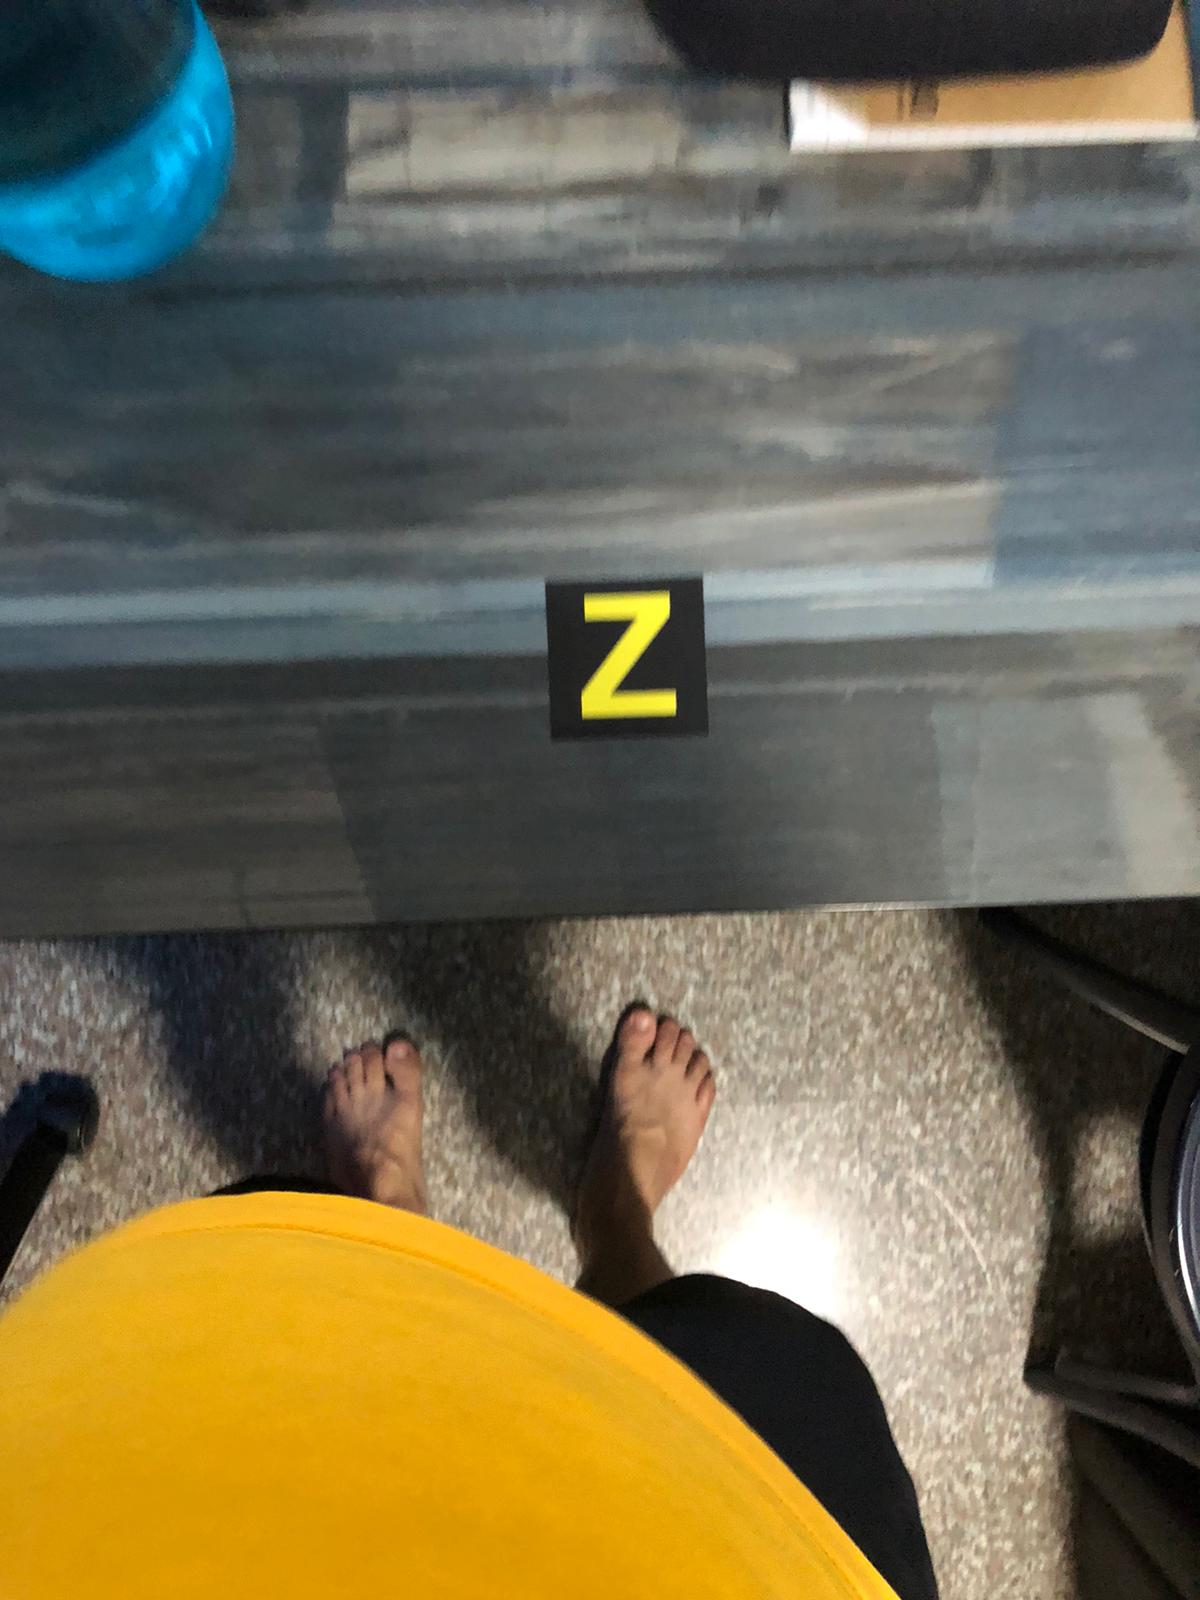Z: (556, 585, 701, 729)
